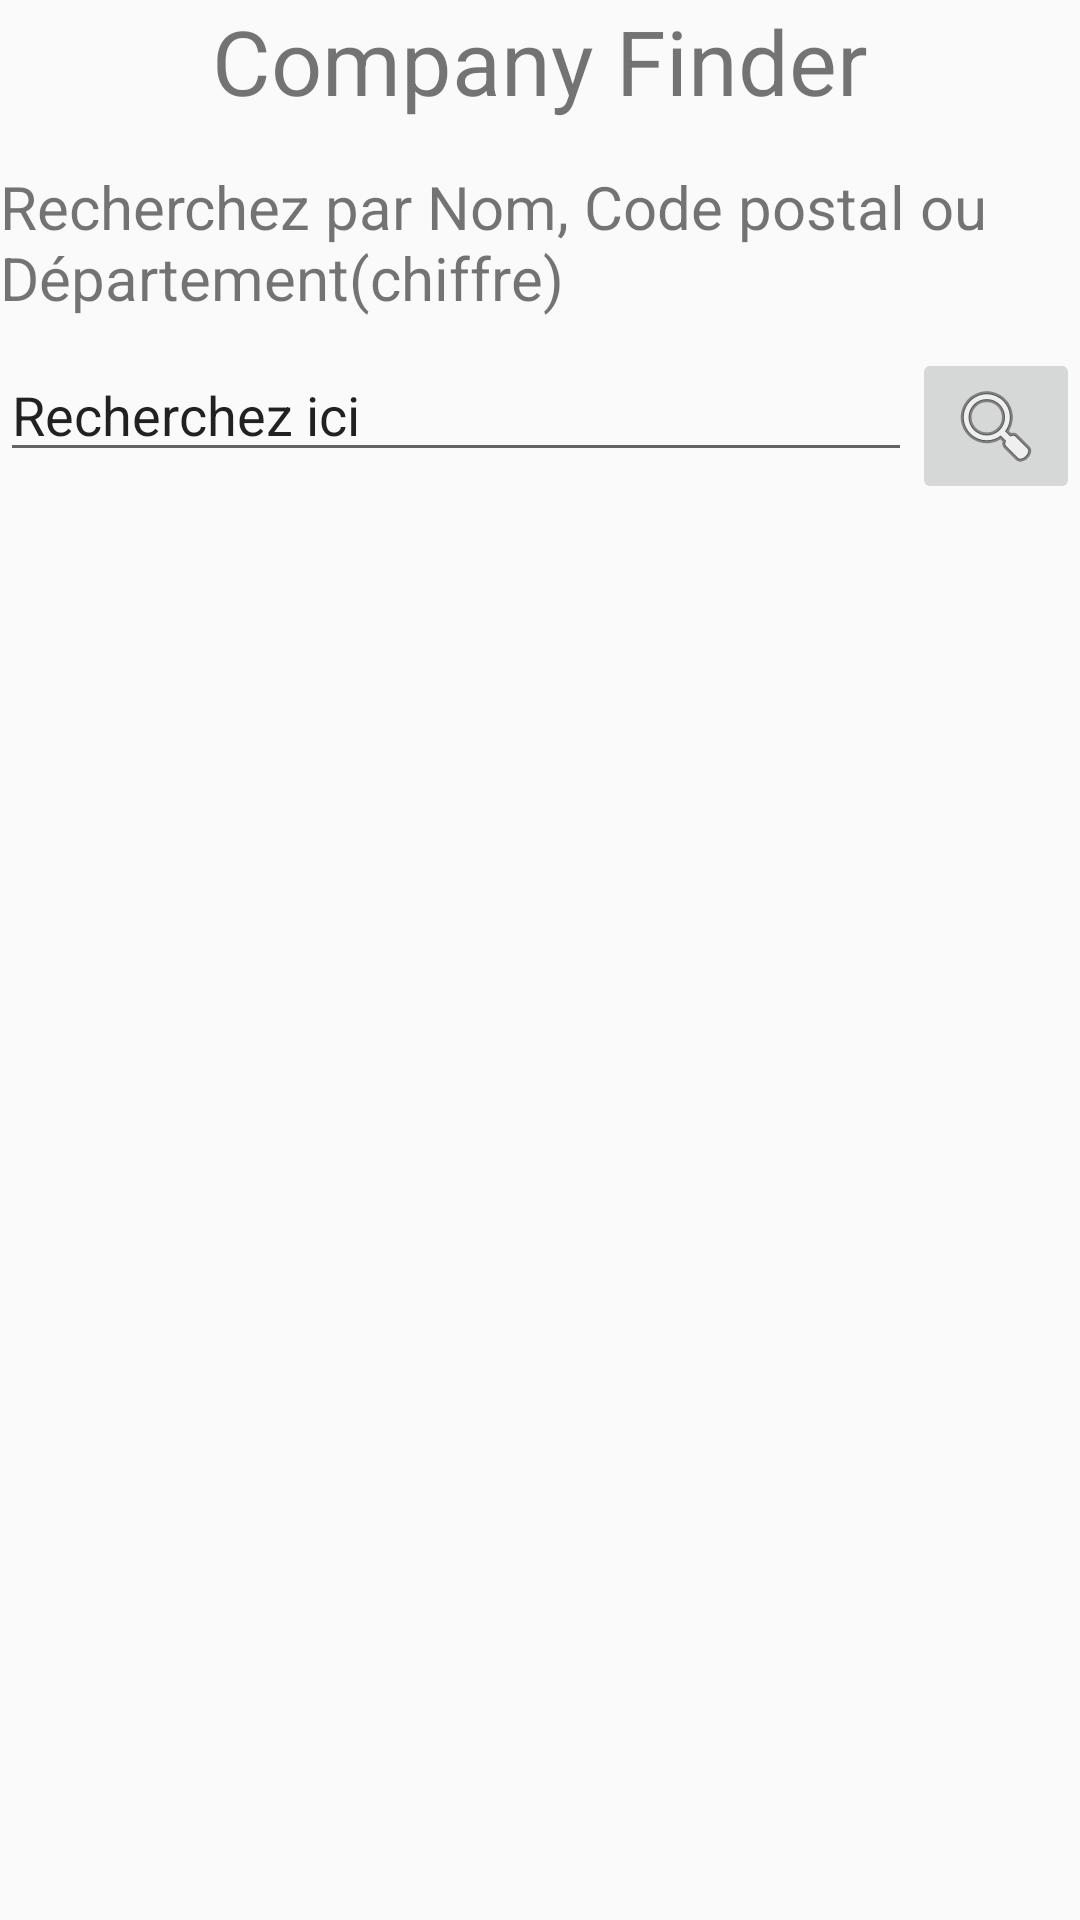

Icons on this 1080×1920 Android screen, each with its box as Rect(x1, y1, x2, y2):
search: Rect(924, 366, 1068, 486)
